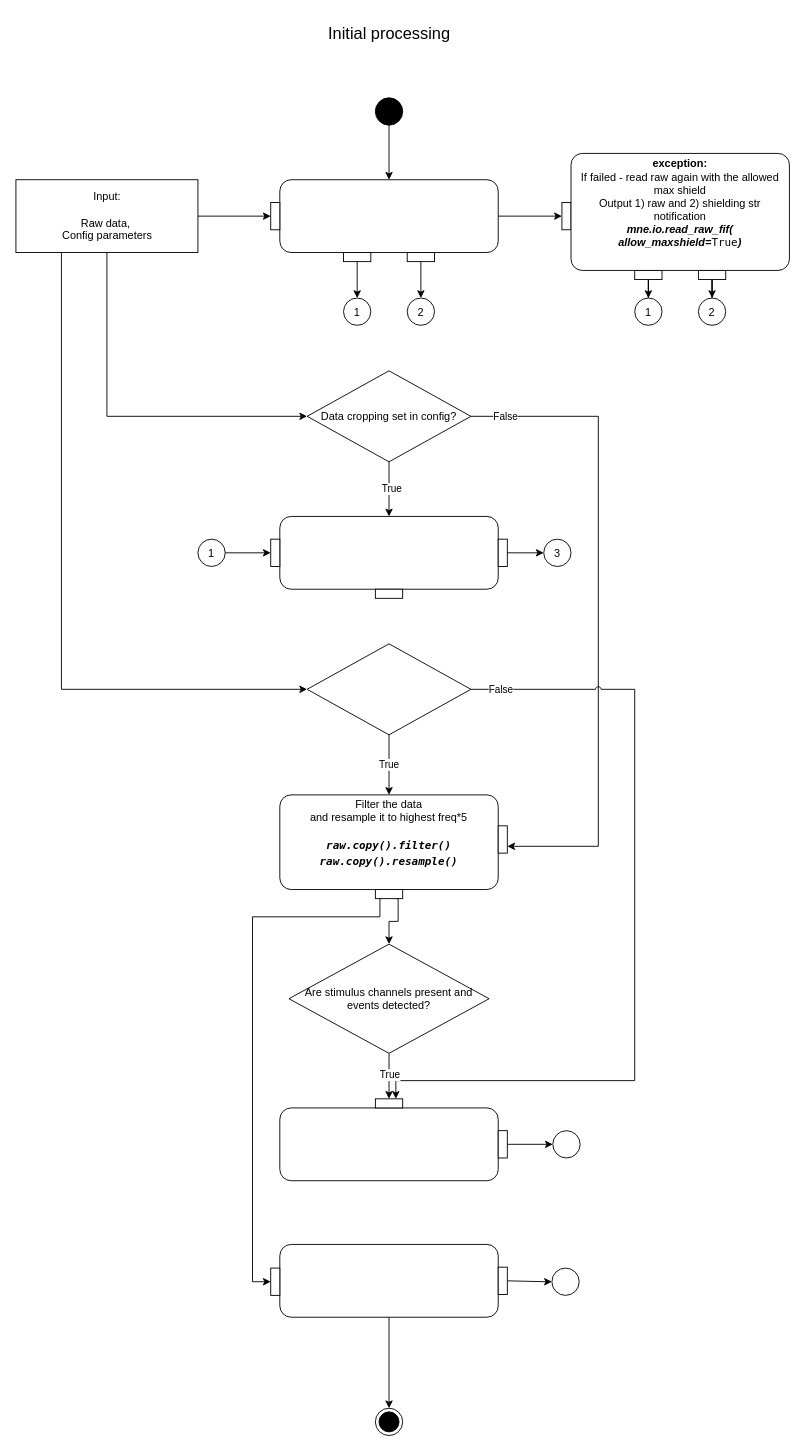
Image size: 805x1451. Some labels were removed from this diagram. Each missing label, with the centre of its shape:
"Crop the data raw.copy().crop()" goes at point 388,552.
"Data filtering set in config?" goes at point 388,689.
"Detects epochs Epoch_meg()" goes at point 388,1144.
"Read .fif file Output 1) raw and 2) empty shielding str mne.io.read_raw_fif()" goes at point 388,216.
"Separate mags and grads channels names into 2 lists" goes at point 388,1280.
